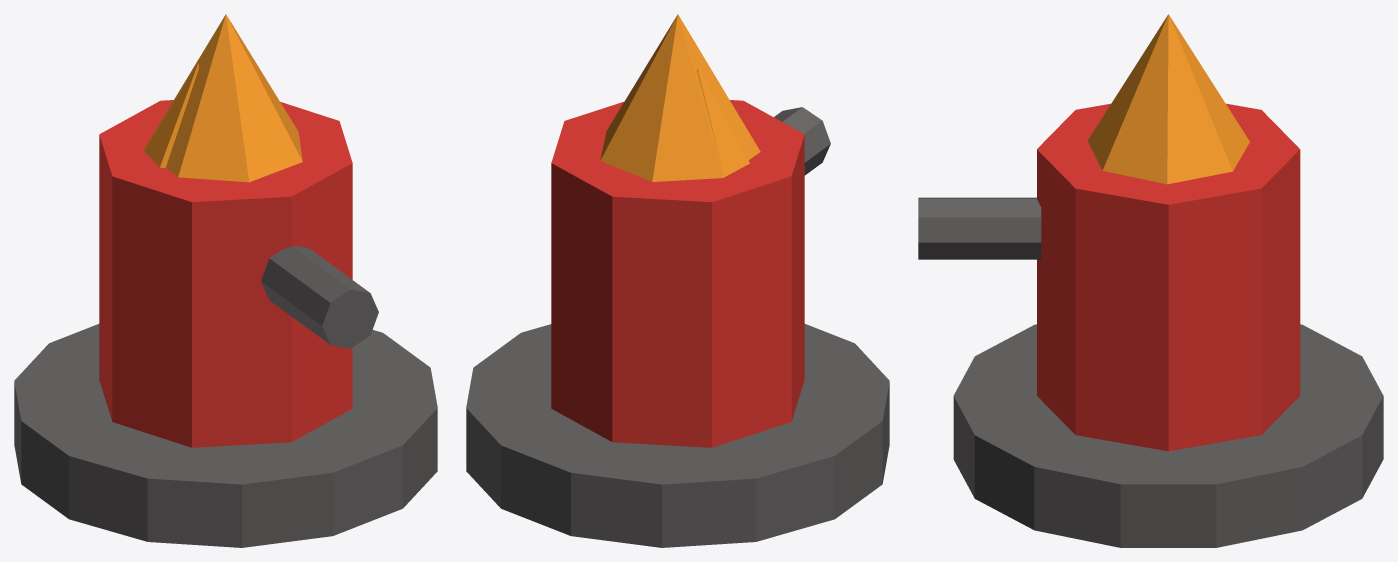
File: TD_FireTower_T0.fbx
3 renders of one model, left to right at view 1: azimuth 30°, elevation 25°; view 2: azimuth 150°, elevation 25°; view 3: azimuth 270°, elevation 25°, orthographic.
Parts seen in each view (by area): view 1: TD_FireTower_T0_Body, TD_FireTower_T0_Base, TD_FireTower_T0_Flame_Outer, TD_FireTower_T0_FrontNozzle, TD_FireTower_T0_Flame_SideA; view 2: TD_FireTower_T0_Body, TD_FireTower_T0_Base, TD_FireTower_T0_Flame_Outer, TD_FireTower_T0_Flame_SideA, TD_FireTower_T0_FrontNozzle; view 3: TD_FireTower_T0_Body, TD_FireTower_T0_Base, TD_FireTower_T0_Flame_Outer, TD_FireTower_T0_FrontNozzle.
Part boxes in pixels (x1,y1,x2,y2): TD_FireTower_T0_Body: (99,100,352,447); TD_FireTower_T0_Base: (14,324,437,547); TD_FireTower_T0_Flame_Outer: (143,14,302,182); TD_FireTower_T0_FrontNozzle: (261,246,378,348); TD_FireTower_T0_Flame_SideA: (145,63,198,167); TD_FireTower_T0_Body: (551,100,804,447); TD_FireTower_T0_Base: (466,324,889,547); TD_FireTower_T0_Flame_Outer: (600,14,760,181); TD_FireTower_T0_Flame_SideA: (697,69,749,176); TD_FireTower_T0_FrontNozzle: (774,107,830,175); TD_FireTower_T0_Body: (1037,103,1300,451); TD_FireTower_T0_Base: (953,324,1383,547); TD_FireTower_T0_Flame_Outer: (1087,14,1249,184); TD_FireTower_T0_FrontNozzle: (918,197,1041,259).
Size of the model in its own units: 0.9554 by 1.12 by 1.06.
